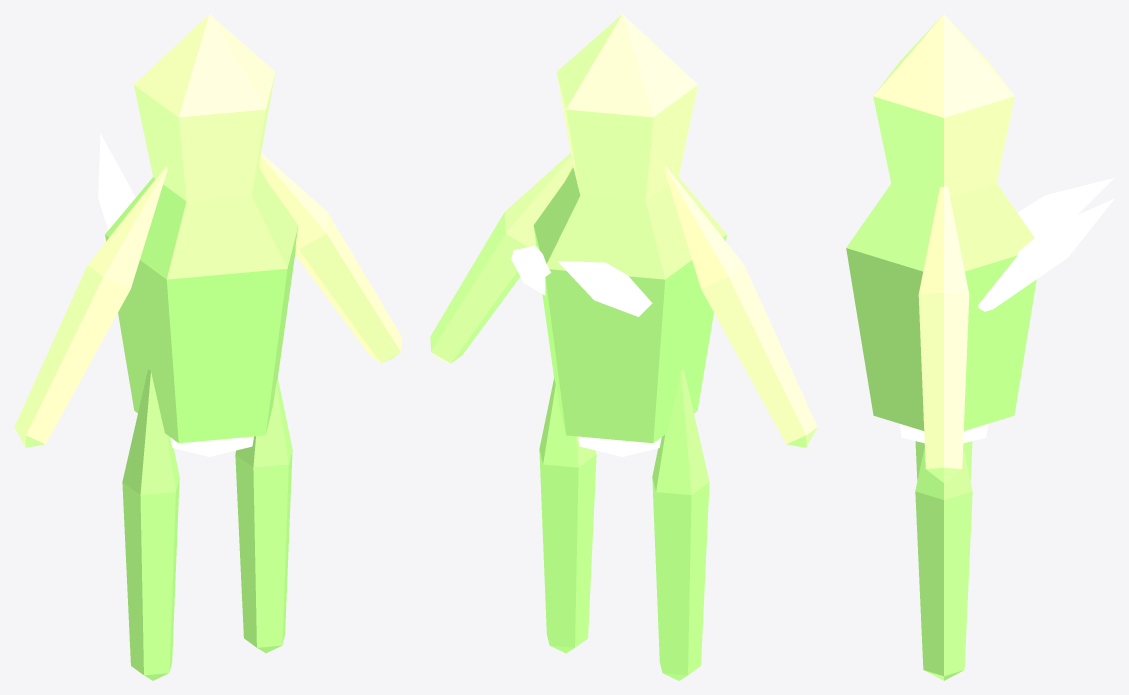
Rendered from deep-fracture-creature-Shardling-venom.glb.
3 renders of one model, left to right at view 1: azimuth 30°, elevation 25°; view 2: azimuth 150°, elevation 25°; view 3: azimuth 270°, elevation 25°, orthographic. The views are drawn at different scales.
Visible parts, largest first — view 1: torso, head, runner-l, arm-l, runner-r, arm-r, back-spine-left, locomotion-core; view 2: torso, head, runner-l, arm-l, runner-r, arm-r, back-spine-left, back-spine-right, locomotion-core; view 3: torso, head, arm-r, runner-r, back-spine-right, back-spine-left, locomotion-core, runner-l.
Boxes of the visible parts, x1,y1,x2,y2 form: torso: (105, 168, 298, 443); head: (134, 14, 275, 201); runner-l: (122, 369, 179, 680); arm-l: (14, 166, 167, 447); runner-r: (235, 378, 292, 653); arm-r: (258, 153, 401, 363); back-spine-left: (98, 134, 135, 229); locomotion-core: (170, 436, 253, 456); torso: (533, 168, 726, 443); head: (556, 14, 697, 201); runner-l: (652, 369, 709, 680); arm-l: (664, 166, 817, 447); runner-r: (539, 378, 596, 653); arm-r: (430, 153, 573, 363); back-spine-left: (557, 261, 652, 316); back-spine-right: (511, 245, 550, 295); locomotion-core: (578, 436, 661, 456); torso: (846, 183, 1036, 430); head: (873, 14, 1014, 197); arm-r: (918, 186, 969, 482); runner-r: (915, 446, 972, 680); back-spine-right: (978, 199, 1113, 311); back-spine-left: (1017, 178, 1114, 237); locomotion-core: (899, 424, 988, 443); runner-l: (915, 441, 972, 480).
Size of the model in its own units: 1.22 by 1.99 by 0.7572.
